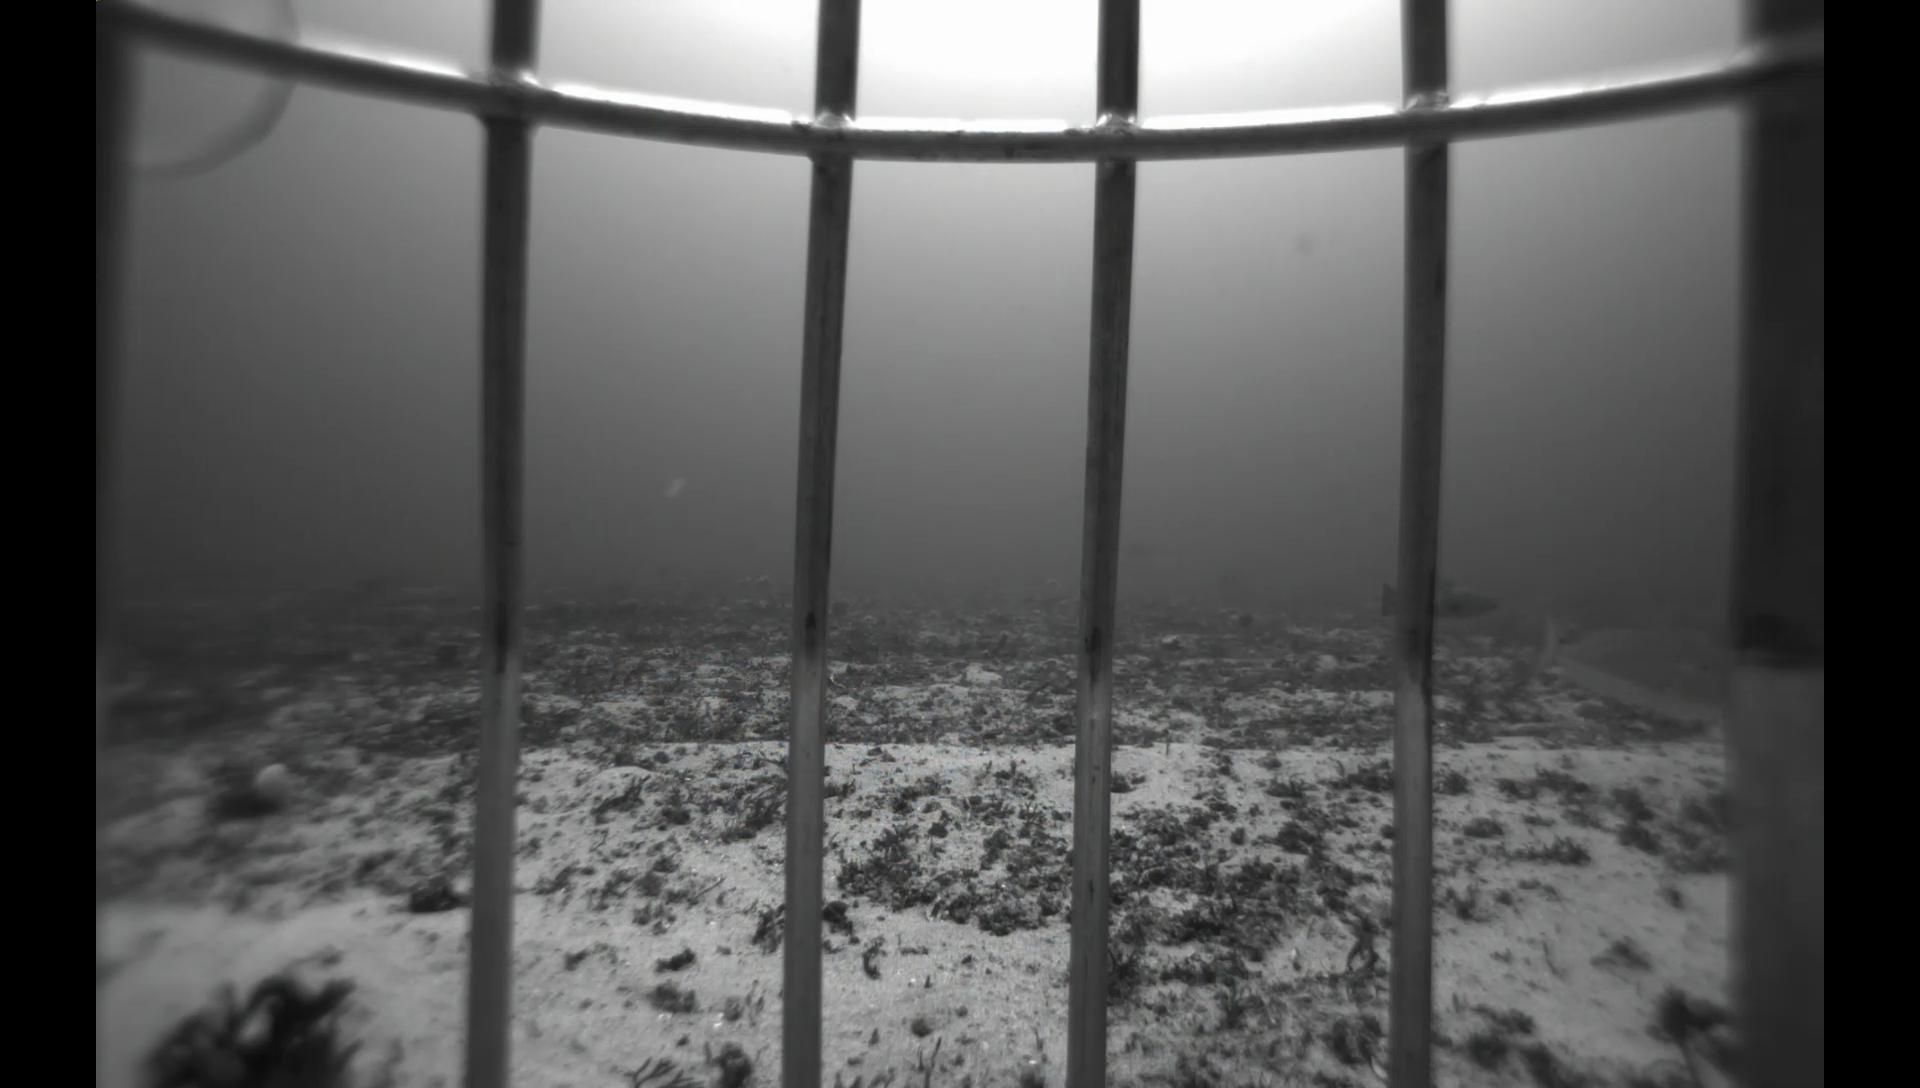CALAMUSPRORIDENS-170210605: (1531, 600, 1725, 729)
EPINEPHELUSMORIO-170021211: (1378, 572, 1501, 625)
PRISTIGENYSALTA-170050401: (597, 591, 655, 625), (827, 593, 855, 621)
